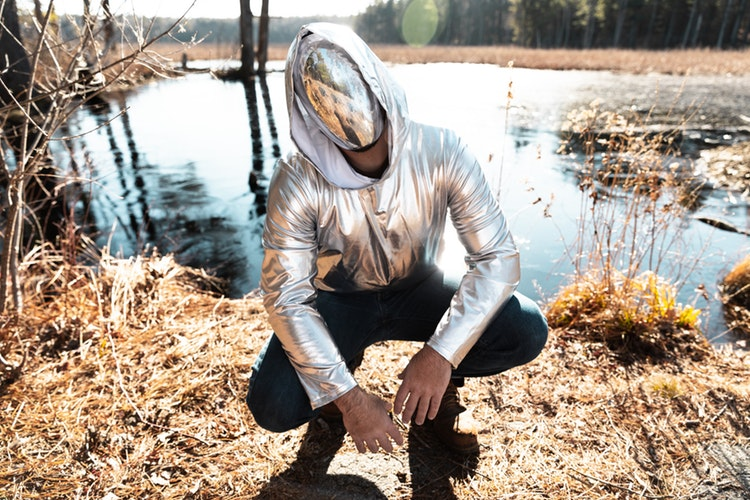helmet: (289, 14, 391, 152)
